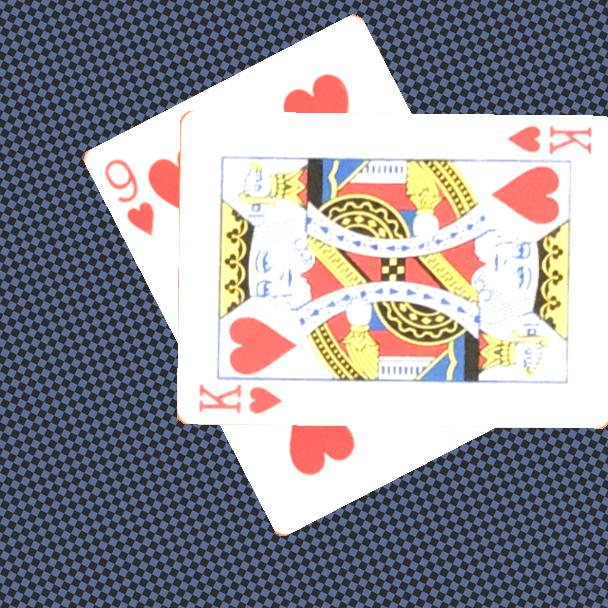h09: (99, 154, 157, 239)
h13: (195, 381, 285, 418), (504, 122, 595, 158)
